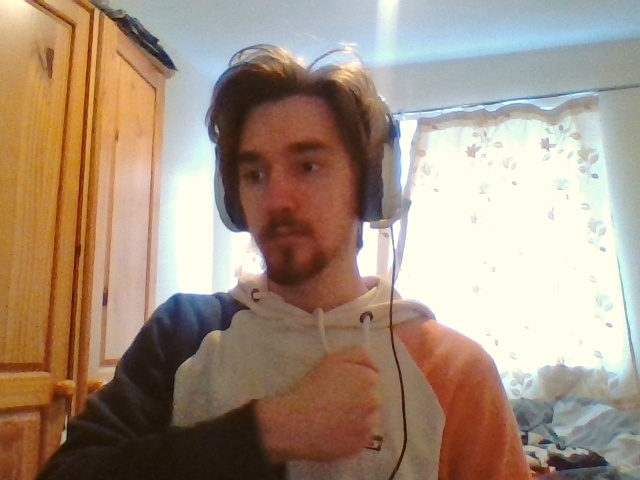morning: (285, 345, 379, 459)
